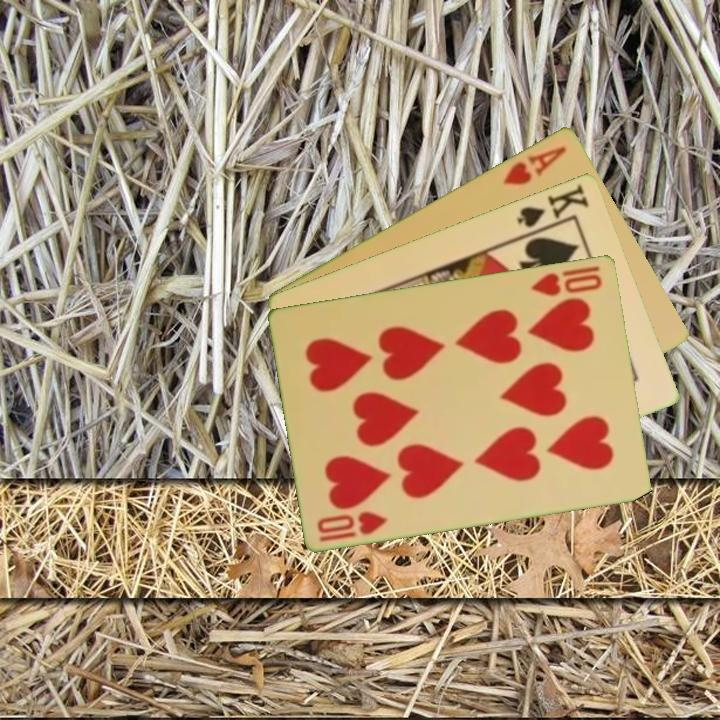10h: (528, 262, 605, 299), (314, 507, 391, 544)
Ah: (499, 141, 570, 188)
Ks: (513, 179, 592, 239)
